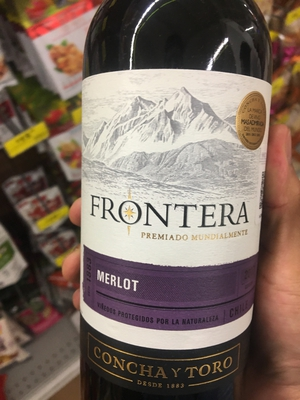frontera merlot: (69, 10, 266, 400)
